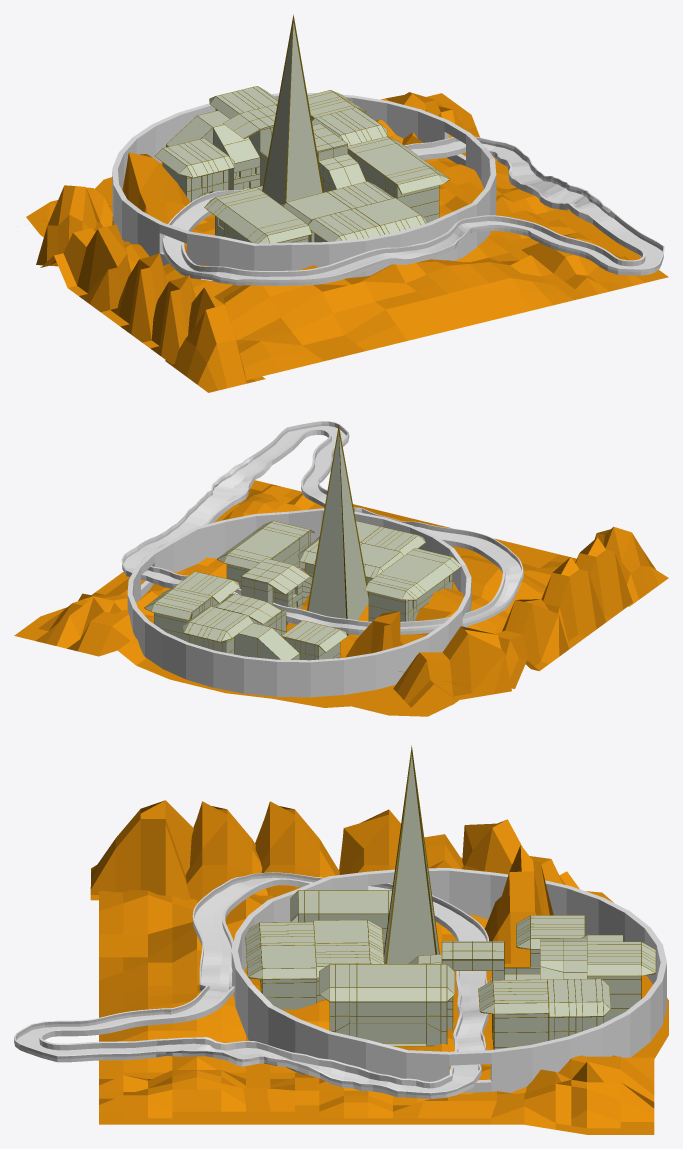
The model's file is Sand DUne_MapWith COlors.fbx.
The picture shows the model from 3 angles, top to bottom: view 1: azimuth 30°, elevation 25°; view 2: azimuth 150°, elevation 25°; view 3: azimuth 270°, elevation 25°; orthographic projection. The views are drawn at different scales.
Parts seen in each view (by area): view 1: Plane, Cylinder, Cube.017, Cube, Cube.002, Cube.016, Cube.015, Plane.004, Plane.003, Cube.003, Cube.007, Plane.005 (+11 smaller); view 2: Cylinder, Plane, Cube.002, Cube.017, Plane.005, Cube, Cube.007, Plane.003, Cube.016, Plane.001, Cube.015, Cube.003 (+10 smaller); view 3: Plane, Cylinder, Cube.017, Cube.003, Plane.004, Cube.016, Cube.002, Cube.015, Cube, Plane.002, Plane.001, Cube.004 (+11 smaller).
Boxes of the visible parts, bbox=[...] form: Plane: bbox=[26, 92, 668, 380]; Cylinder: bbox=[112, 93, 496, 278]; Cube.017: bbox=[163, 141, 662, 285]; Cube: bbox=[109, 104, 366, 206]; Cube.002: bbox=[262, 14, 323, 204]; Cube.016: bbox=[162, 137, 664, 285]; Cube.015: bbox=[181, 146, 645, 276]; Plane.004: bbox=[165, 287, 265, 392]; Plane.003: bbox=[40, 224, 135, 312]; Cube.003: bbox=[348, 136, 449, 223]; Cube.007: bbox=[204, 187, 312, 243]; Plane.005: bbox=[36, 185, 113, 266]; Cylinder: bbox=[127, 508, 471, 697]; Plane: bbox=[14, 480, 576, 716]; Cube.002: bbox=[307, 425, 368, 635]; Cube.017: bbox=[123, 426, 521, 635]; Plane.005: bbox=[393, 626, 511, 707]; Cube: bbox=[216, 558, 403, 672]; Cube.007: bbox=[364, 548, 461, 621]; Plane.003: bbox=[496, 599, 568, 688]; Cube.016: bbox=[121, 421, 523, 634]; Plane.001: bbox=[541, 557, 605, 649]; Cube.015: bbox=[141, 429, 505, 626]; Cube.003: bbox=[217, 520, 314, 588]; Plane: bbox=[99, 890, 668, 1134]; Cylinder: bbox=[231, 868, 666, 1093]; Cube.017: bbox=[16, 877, 488, 1098]; Cube.003: bbox=[319, 964, 454, 1046]; Plane.004: bbox=[90, 800, 193, 900]; Cube.016: bbox=[14, 872, 488, 1098]; Cube.002: bbox=[383, 745, 439, 963]; Cube.015: bbox=[39, 878, 462, 1088]; Cube: bbox=[408, 935, 623, 1038]; Plane.002: bbox=[185, 801, 268, 899]; Plane.001: bbox=[255, 801, 339, 897]; Cube.004: bbox=[478, 979, 548, 1049].
Bounding box in the file's own units: 143990 × 65386 × 149658.
